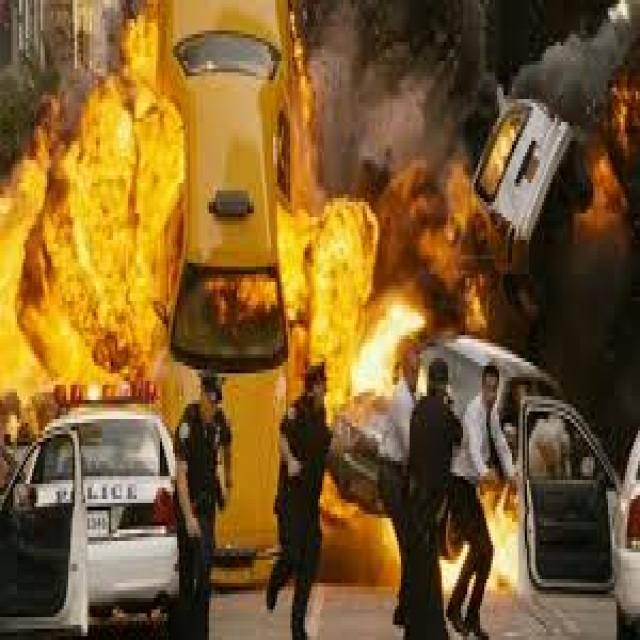Fire: (0, 17, 535, 577)
